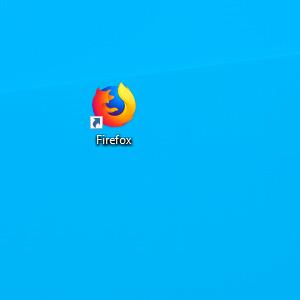firefox: (90, 81, 137, 130)
